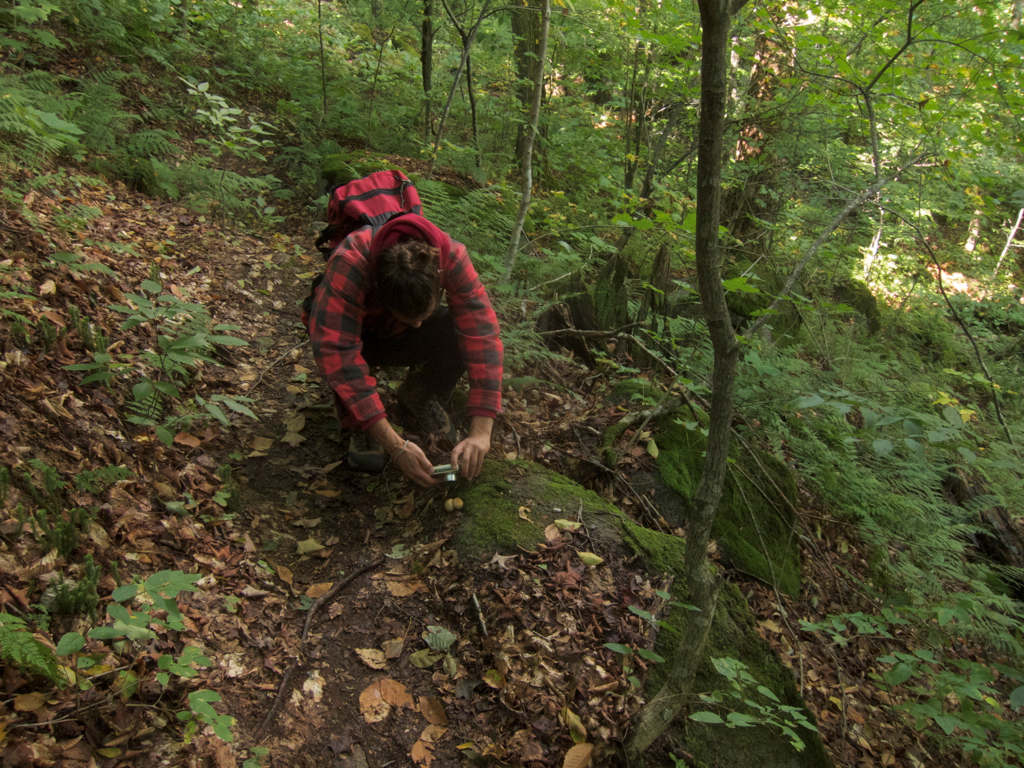Tree: (1, 1, 1022, 756), (504, 0, 561, 184)
